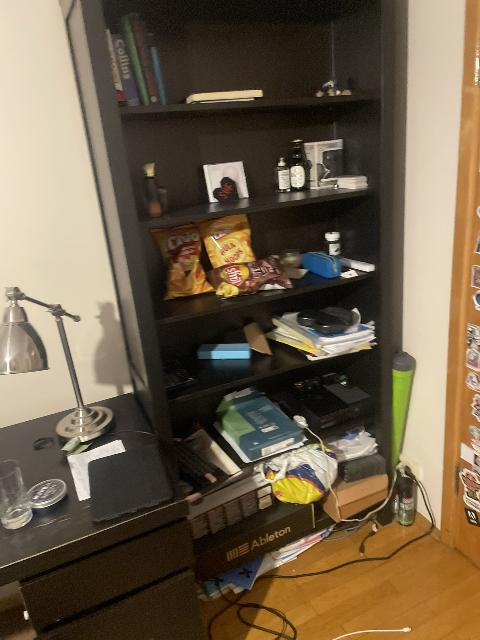Chio Cascaval 125g: (150, 222, 214, 301)
Chio Hula Hoops Cheese 70g: (200, 215, 256, 272)
Lays Beef Grilled Ribs 125g: (205, 255, 294, 298)
